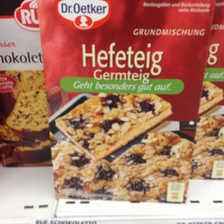cake: (35, 1, 216, 204)
